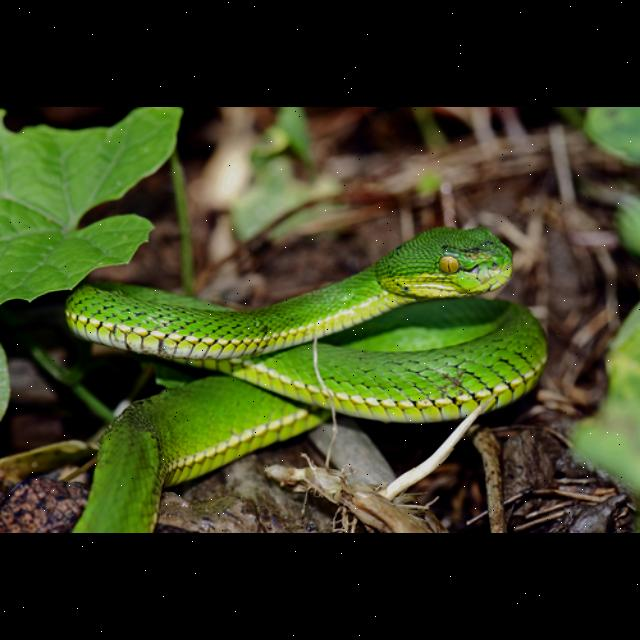snake: (62, 225, 550, 533)
